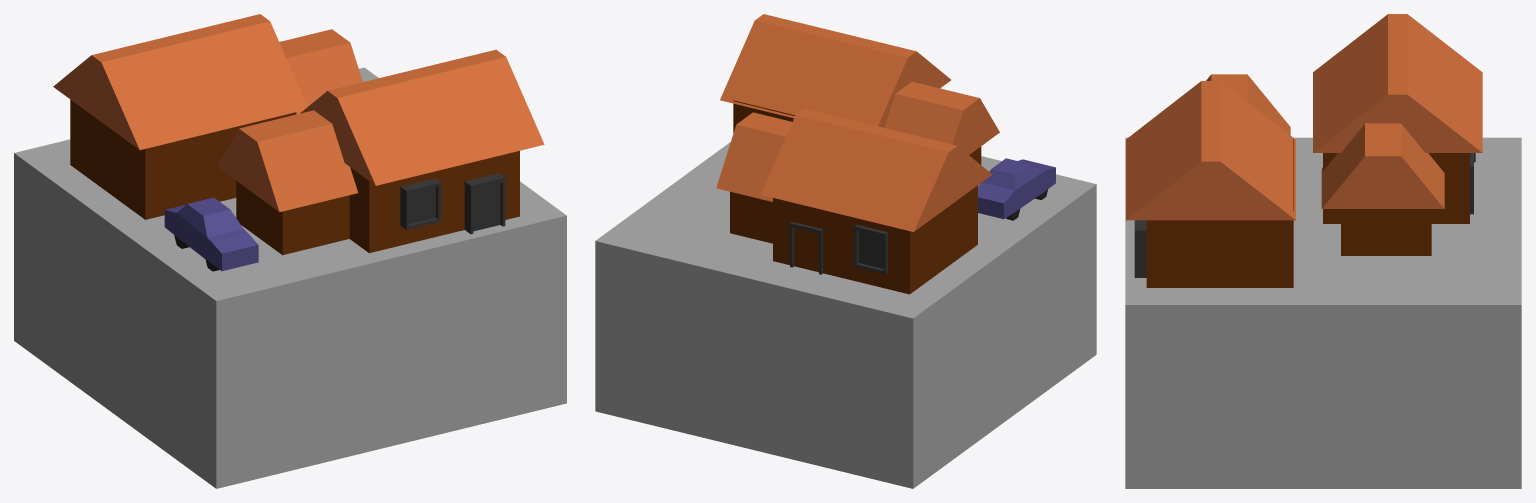
Rendered from Suburban1.fbx.
3 renders of one model, left to right at view 1: azimuth 30°, elevation 25°; view 2: azimuth 150°, elevation 25°; view 3: azimuth 270°, elevation 25°, orthographic. The views are drawn at different scales.
Parts seen in each view (by area): view 1: pCube1, pCube8, pCube7, pCube113, pCube11, pCube115, pCube116, Car, pCube12, door2, door5; view 2: pCube1, pCube8, pCube7, pCube113, pCube11, pCube12, Car, pCube114, door4, pCube115, door3; view 3: pCube1, pCube7, pCube8, pCube115, pCube12, pCube114, pCube113, pCube11, door2.
Part boxes in pixels (<box>): pCube1: <box>14,67,566,488</box>; pCube8: <box>53,14,307,149</box>; pCube7: <box>300,49,544,185</box>; pCube113: <box>70,99,296,219</box>; pCube11: <box>217,110,358,212</box>; pCube115: <box>349,151,519,253</box>; pCube116: <box>236,181,349,255</box>; Car: <box>164,197,258,271</box>; pCube12: <box>279,29,362,114</box>; door2: <box>464,173,505,234</box>; door5: <box>400,178,440,229</box>; pCube1: <box>595,142,1096,488</box>; pCube8: <box>760,108,991,231</box>; pCube7: <box>720,14,950,127</box>; pCube113: <box>773,185,977,294</box>; pCube11: <box>884,81,999,154</box>; pCube12: <box>716,112,792,201</box>; Car: <box>978,158,1055,219</box>; pCube114: <box>730,191,772,243</box>; door4: <box>854,225,887,274</box>; pCube115: <box>733,100,795,132</box>; door3: <box>790,222,822,274</box>; pCube1: <box>1125,137,1521,488</box>; pCube7: <box>1126,81,1295,220</box>; pCube8: <box>1313,14,1482,152</box>; pCube115: <box>1146,139,1293,287</box>; pCube12: <box>1321,123,1444,208</box>; pCube114: <box>1341,209,1431,255</box>; pCube113: <box>1323,153,1469,223</box>; pCube11: <box>1206,74,1290,134</box>; door2: <box>1134,220,1146,277</box>.
Bounding box in the file's own units: 1 × 0.8824 × 1.
